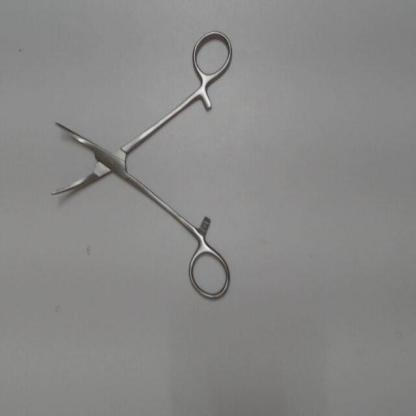Crile Artery Forceps: (43, 23, 238, 306)
